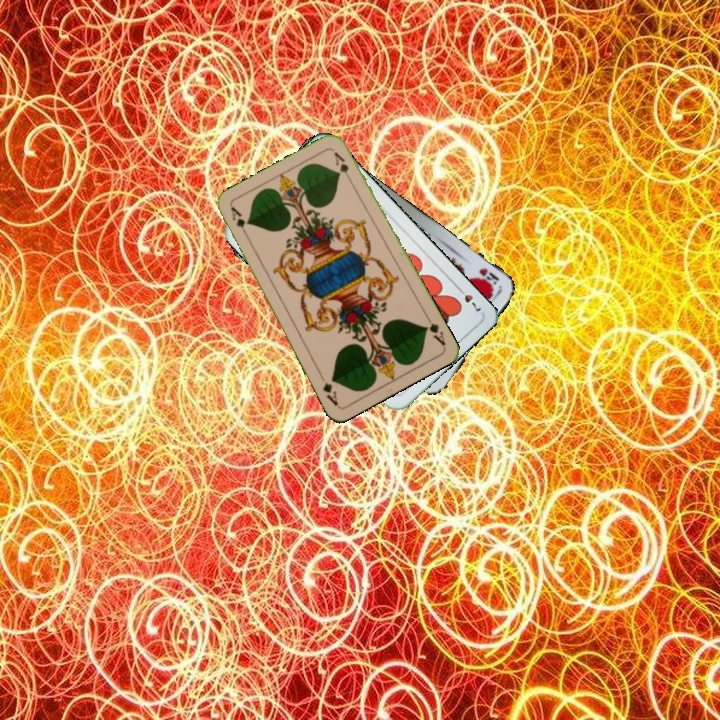GA: (421, 311, 448, 348), (226, 203, 252, 241)
H7: (453, 282, 484, 314)
HK: (473, 264, 502, 292)
